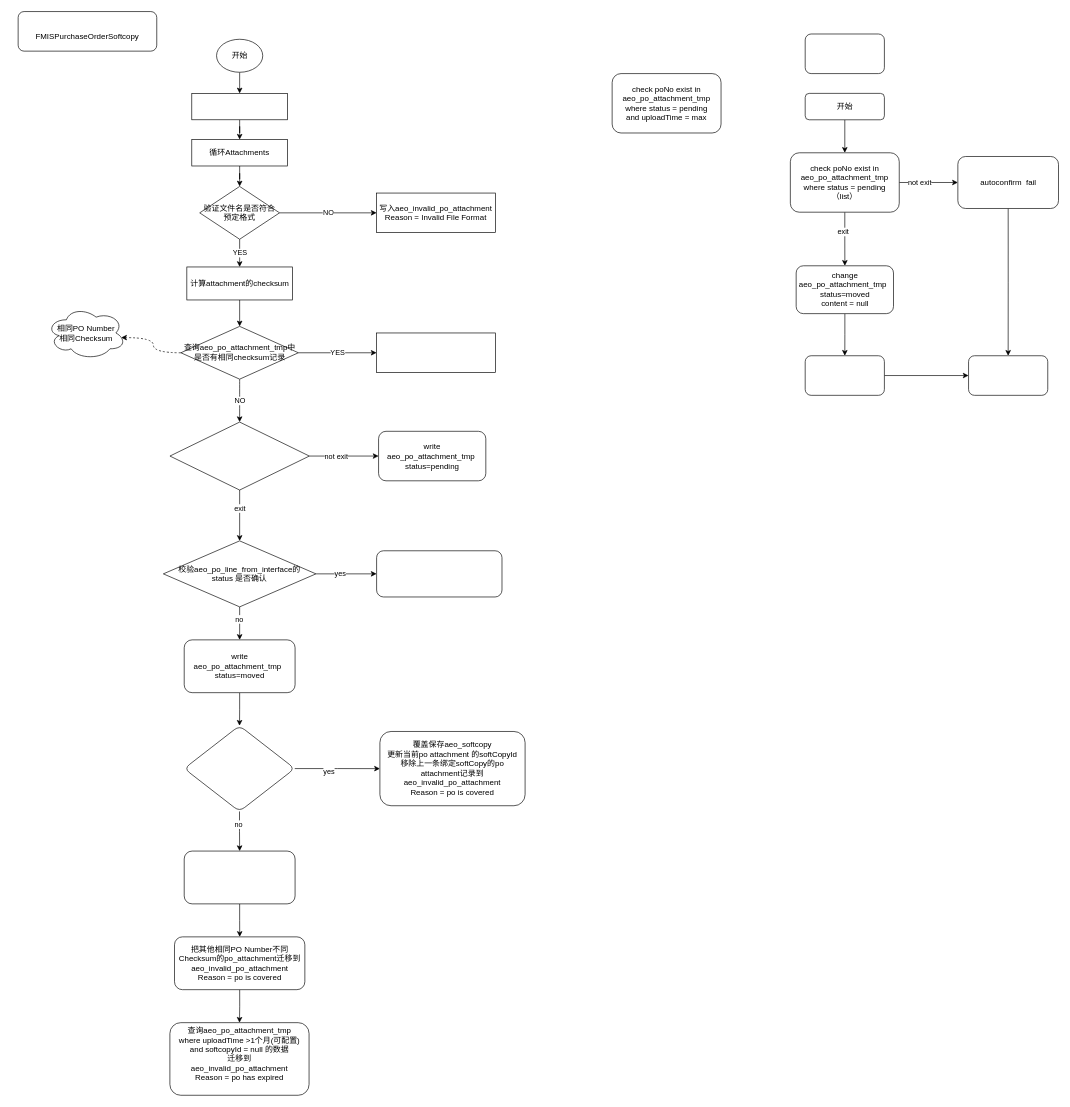
The diagram is 1070 pixels wide and 1107 high, and some of its shapes have lost their labels. The box of each missing label's shape, as (x1, y1, x2, y2) in pixels:
check poNo exist in aeo_po_line_from_interface: (169, 421, 309, 490)
end: (968, 355, 1048, 395)
FMISPurchaseOrder: (805, 33, 884, 74)
write aeo_softcopy: (805, 355, 884, 395)
write aeo_softcopy 更新当前po attachment 的softCopyId: (184, 850, 295, 904)
从CAP接收Attachments: (191, 93, 287, 120)
写入aeo_invalid_po_attachment Reason = Duplicate Record: (376, 332, 495, 373)
写入aeo_invalid_po_attachment Reason = po confirmed: (376, 550, 502, 597)
根据po查询softcopy 是否存在: (184, 725, 295, 811)
